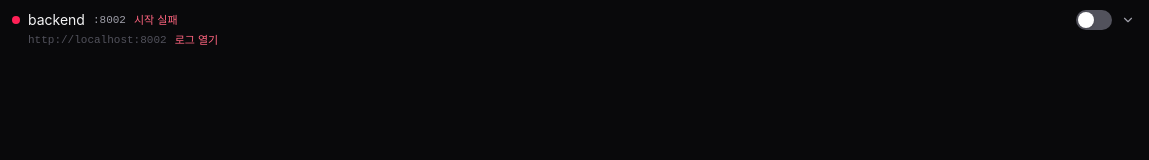
Test: ServiceRow › open_log 가 실패하면 짧은 오류 문구를 alert 로 보여준다
This screenshot has width=1149, height=160.
Click the button "로그 열기" at (196, 40), box 175,32 -> 218,48
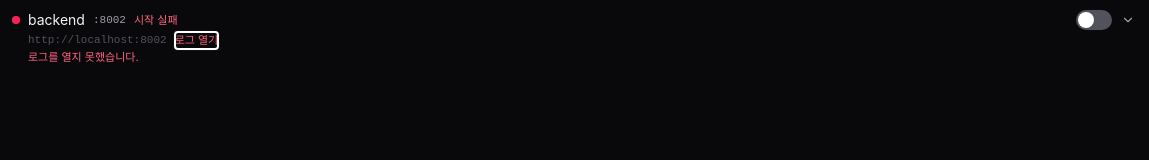
Check: the message reads "로그를 열지 못했습니다.", box 28,50 -> 139,64
